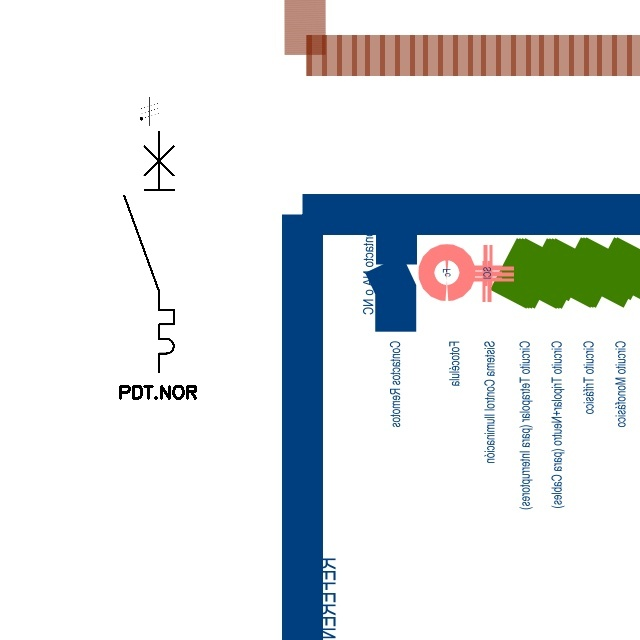interruptor_termomagnetico: (118, 125, 180, 377)
